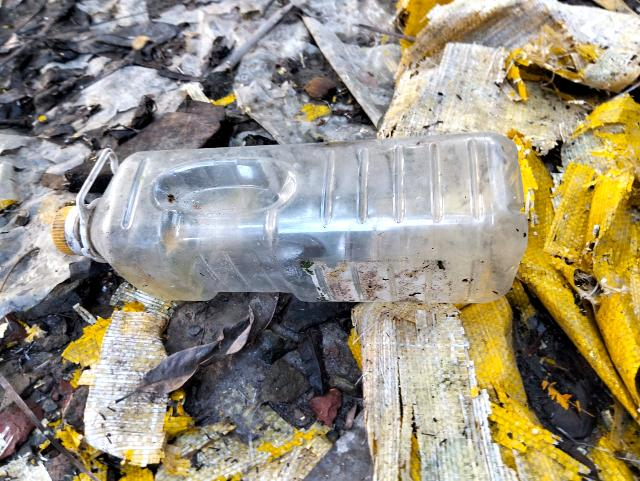bottle: (84, 146, 536, 310)
